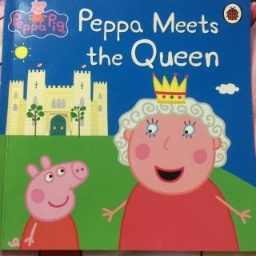Peppa: (6, 154, 91, 256)
